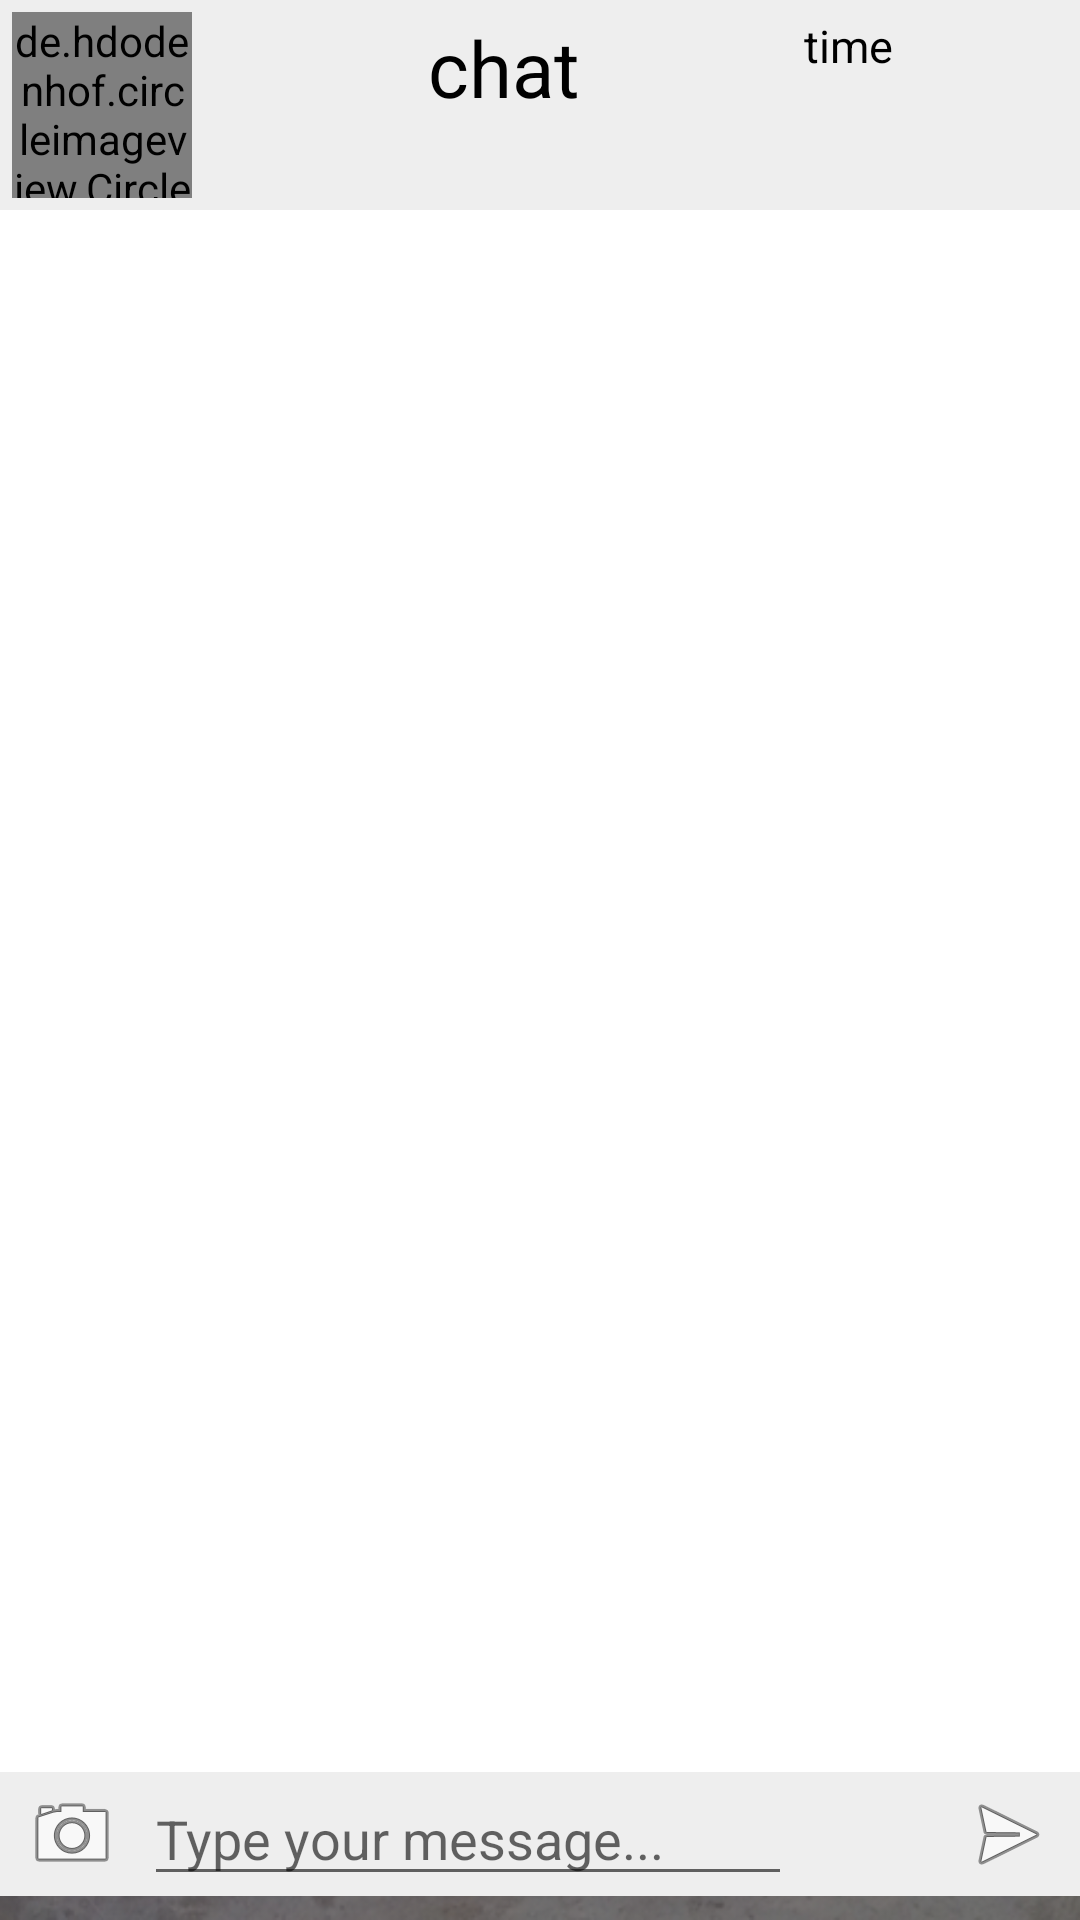

Icon click points for this 1080px×1920px phone screenshot, format (x=x, y=y):
camera: (x=72, y=1832)
send: (x=1009, y=1834)
